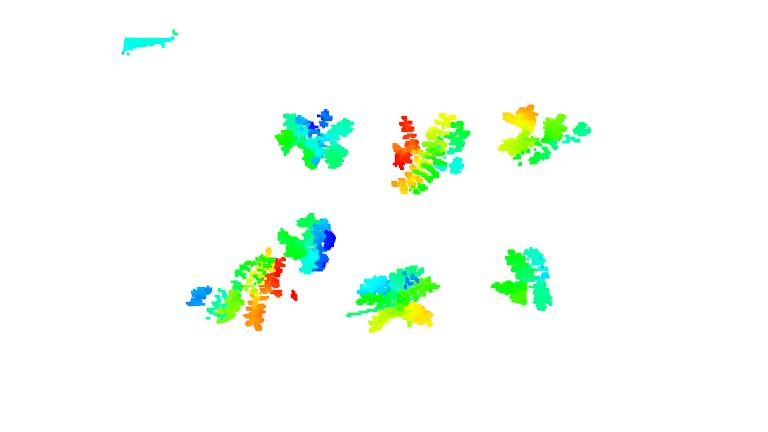chickpea: (189, 249, 299, 332), (388, 112, 470, 197), (495, 105, 593, 168), (355, 265, 440, 333), (276, 110, 352, 171), (490, 245, 557, 314), (282, 211, 339, 278)
